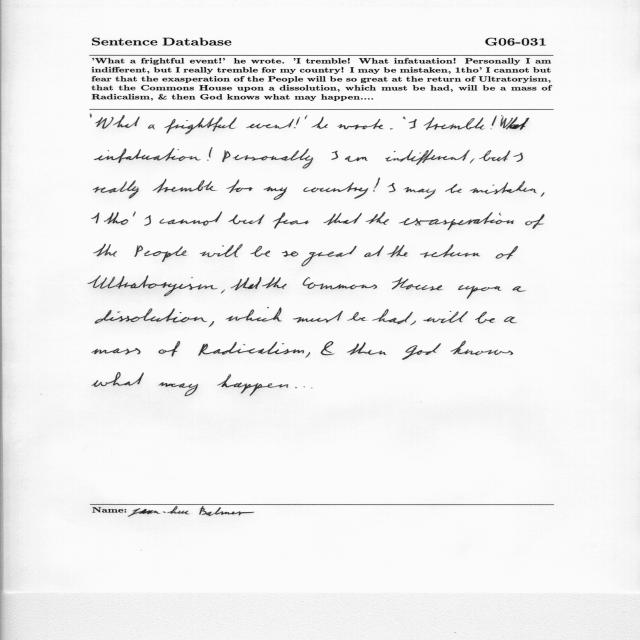word: (88, 276, 217, 297), (399, 212, 514, 230), (222, 149, 313, 169), (95, 308, 207, 324), (95, 148, 201, 163), (217, 374, 288, 396), (198, 342, 304, 356), (385, 149, 470, 165), (164, 117, 237, 134), (304, 182, 369, 199), (302, 246, 357, 266), (152, 179, 217, 193), (134, 245, 187, 262), (303, 277, 377, 289), (470, 181, 538, 194), (160, 212, 223, 226), (450, 341, 513, 355), (225, 307, 282, 322), (420, 244, 480, 258), (93, 181, 139, 199), (424, 117, 485, 130), (92, 372, 144, 387), (392, 278, 443, 291), (402, 343, 441, 360), (95, 115, 140, 129), (273, 212, 310, 229), (372, 309, 413, 324), (293, 311, 343, 323), (92, 212, 136, 225), (159, 382, 199, 396), (200, 244, 243, 257), (458, 285, 501, 298), (423, 311, 468, 323), (347, 342, 387, 355), (338, 119, 384, 130), (246, 119, 294, 129), (323, 213, 362, 225), (501, 115, 530, 130), (231, 277, 261, 290), (404, 187, 436, 199), (226, 179, 253, 193), (228, 215, 265, 225), (479, 151, 510, 162), (264, 186, 288, 200), (159, 341, 180, 356), (93, 244, 117, 257), (525, 214, 545, 229), (262, 277, 287, 289), (366, 212, 389, 225), (92, 348, 140, 354), (496, 246, 518, 259), (387, 245, 407, 257), (475, 312, 495, 324), (251, 246, 271, 257), (364, 246, 384, 257), (311, 117, 328, 129), (321, 341, 335, 355), (348, 312, 367, 321), (445, 184, 462, 193), (345, 156, 368, 162), (513, 152, 523, 162), (490, 116, 497, 130), (373, 178, 380, 192), (282, 251, 298, 257), (504, 317, 517, 324), (512, 286, 526, 292), (409, 119, 417, 129), (207, 148, 213, 161), (144, 215, 151, 226), (294, 117, 300, 128), (331, 151, 338, 160), (388, 183, 395, 192), (148, 125, 155, 130), (209, 321, 214, 327), (305, 352, 310, 358), (470, 159, 475, 164), (410, 321, 416, 325), (541, 192, 545, 197), (221, 290, 225, 294), (305, 115, 308, 120), (403, 117, 406, 120), (90, 114, 92, 118), (390, 128, 393, 129), (295, 387, 297, 388)
